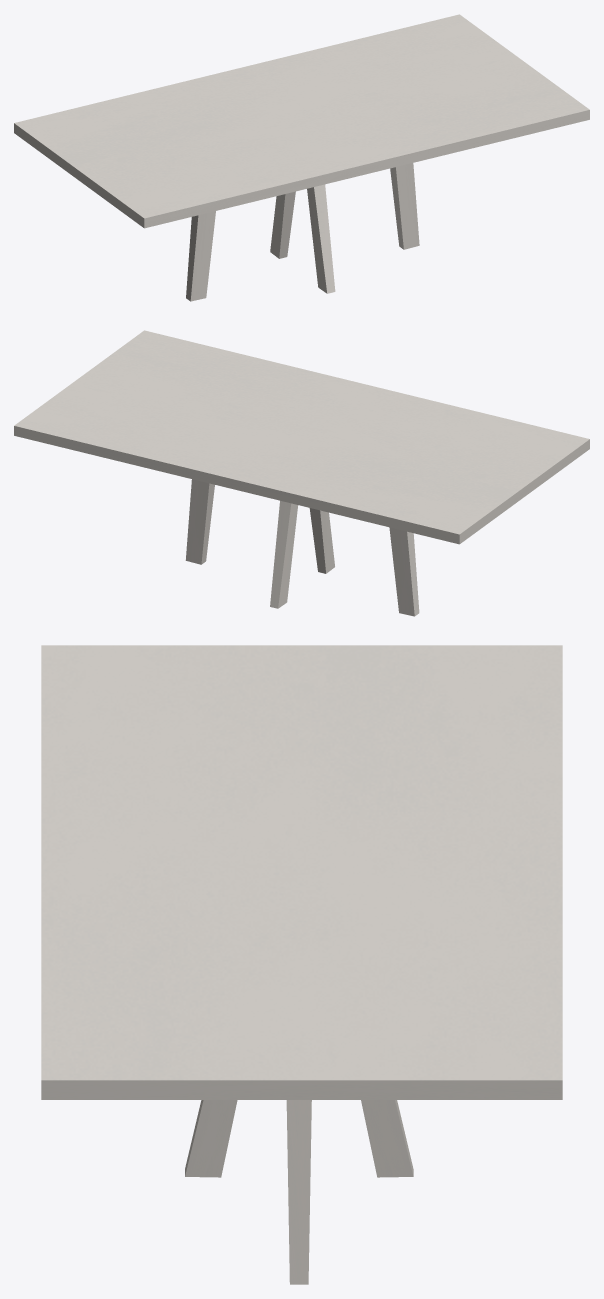
The model's file is pearlwhite_recta_standard_searwalnut.glb.
3 views of the same model, one above another, from view 1: azimuth 30°, elevation 25°; view 2: azimuth 150°, elevation 25°; view 3: azimuth 270°, elevation 25° (orthographic). The views are drawn at different scales.
Visible parts, largest first — view 1: standard_recta, searwalnut; view 2: standard_recta, searwalnut; view 3: standard_recta, searwalnut.
Part boxes in pixels (bbox=[...]): standard_recta: bbox=[14, 14, 589, 228]; searwalnut: bbox=[186, 163, 419, 301]; standard_recta: bbox=[14, 330, 589, 544]; searwalnut: bbox=[185, 479, 419, 616]; standard_recta: bbox=[41, 645, 562, 1099]; searwalnut: bbox=[185, 1100, 413, 1284].
Size of the model in its own units: 7.5 by 2.5 by 3.8.
Materials: 1 (1 with a texture image).
